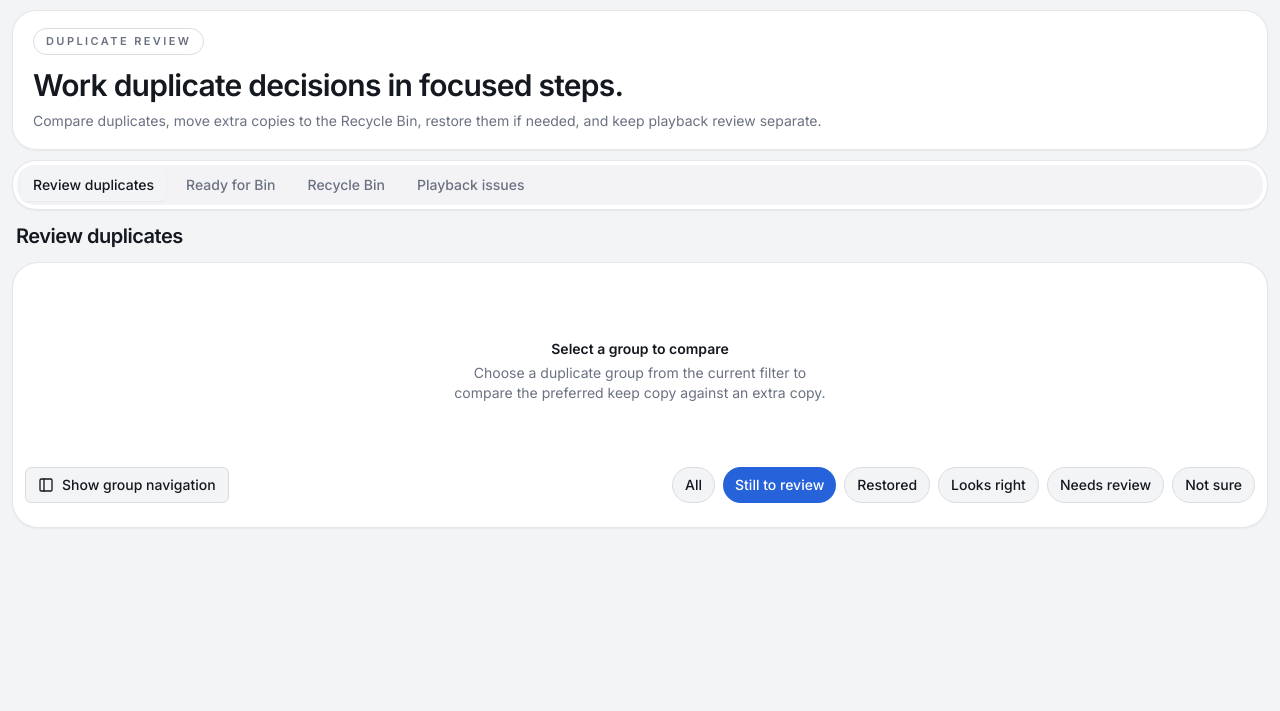
Test: DuplicatesPage › shows the system recommendation separately from the human review state on Review duplicates
The image size is (1280, 711).
Click the button "Looks right" at (988,484), box [938,466,1039,502]
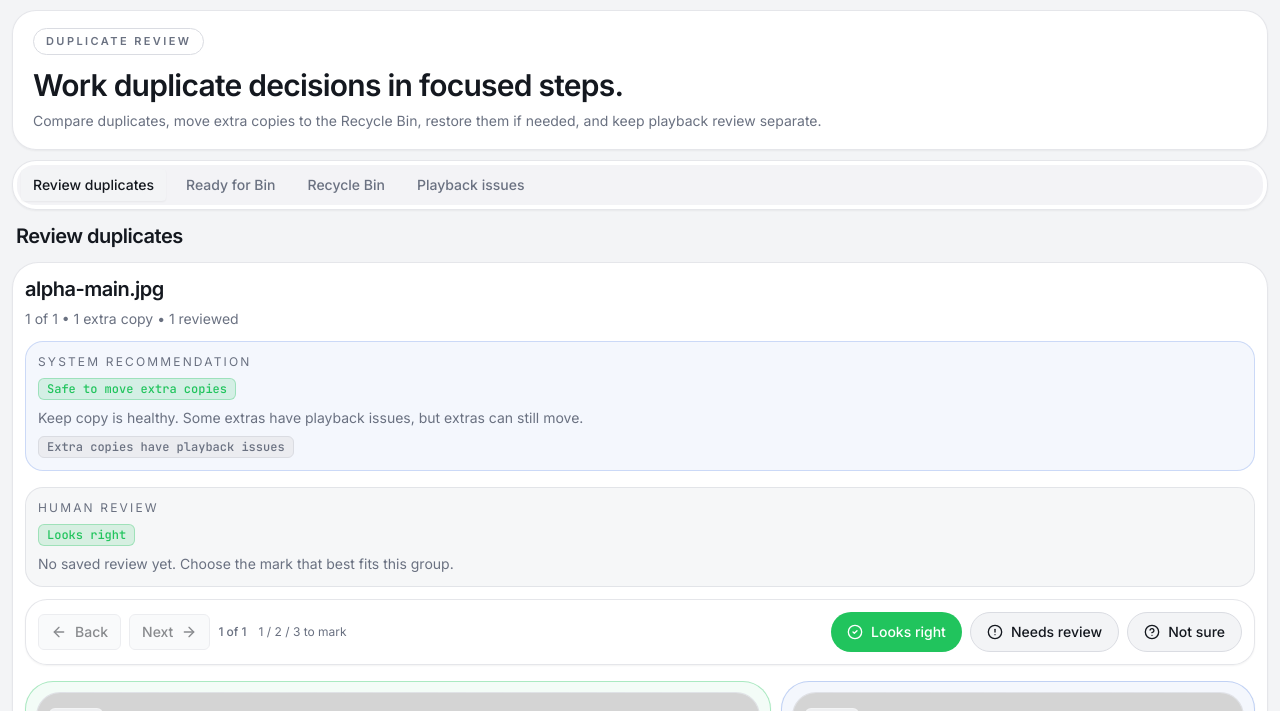
Check: the element with test id "review-recommendation-card" is shown, box [25,340,1255,470]
Check: the element with test id "review-recommendation-card" shows "System recommendation", box [38,354,252,368]
Check: the element with test id "review-recommendation-card" shows "Safe to move extra copies", box [47,380,227,396]
